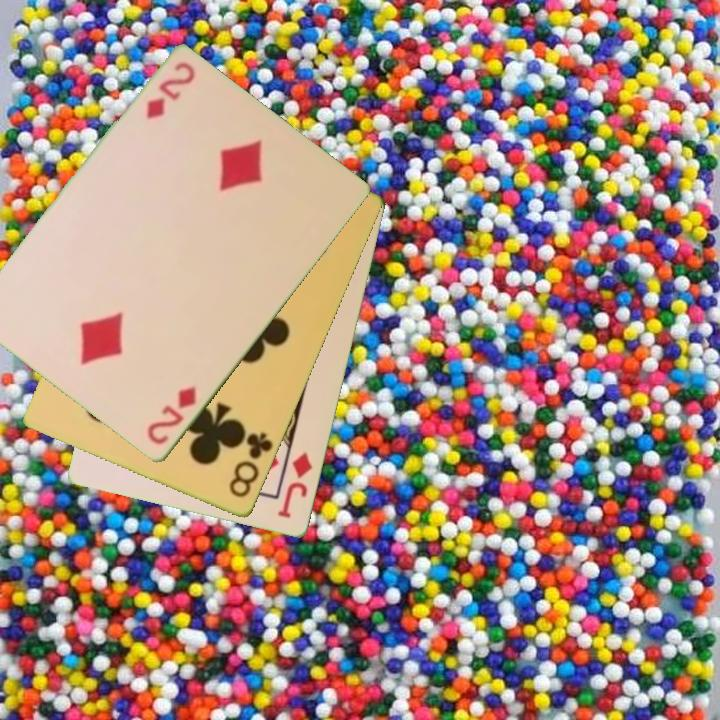2d: (143, 383, 200, 449), (142, 59, 198, 123)
8c: (225, 429, 276, 501)
Jd: (274, 448, 316, 522)
